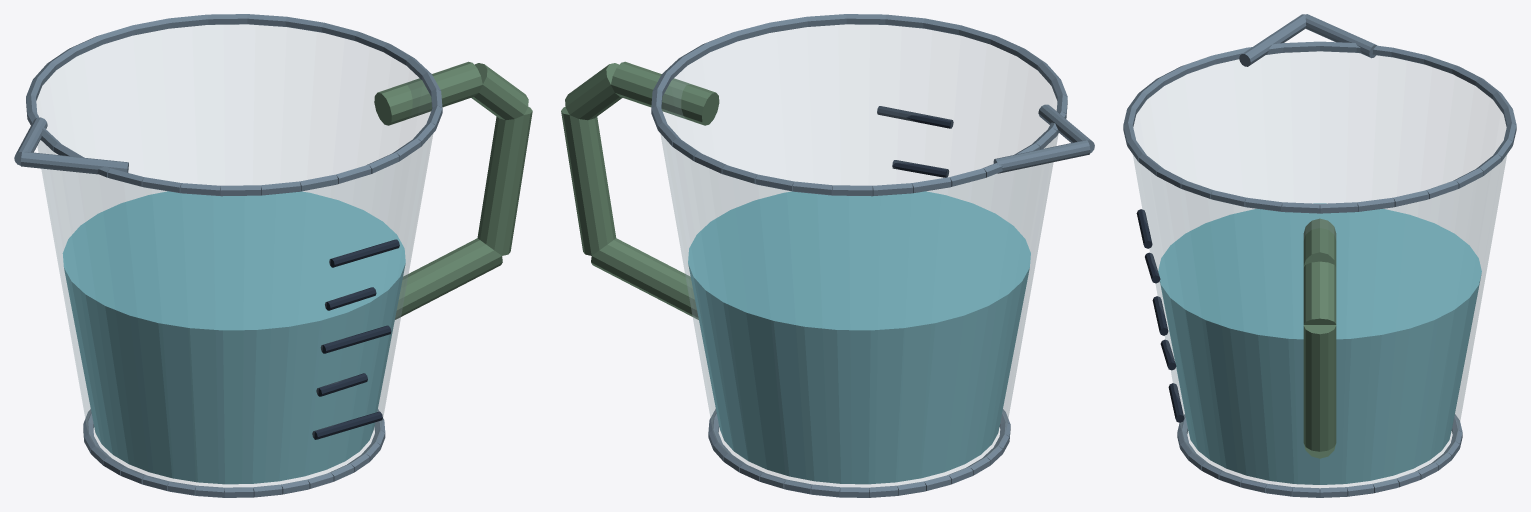
The model's file is jug.glb.
The picture shows the model from 3 angles, left to right: view 1: azimuth 30°, elevation 25°; view 2: azimuth 150°, elevation 25°; view 3: azimuth 270°, elevation 25°; orthographic projection. The views are drawn at different scales.
Parts seen in each view (by area): view 1: glass wall, liquid, handle2, handle3, handle0, handle1, pour lip0, tick 4, tick 2, tick 0, pour lip1; view 2: glass wall, liquid, handle2, handle3, handle0, handle1, pour lip1, pour lip0, tick 4; view 3: glass wall, liquid, handle2, handle1, handle0, pour lip0, pour lip1.
Part boxes in pixels (left/top/right/bottom): glass wall: left=37, top=25, right=432, bottom=487; liquid: left=62, top=191, right=405, bottom=484; handle2: left=477, top=107, right=532, bottom=255; handle3: left=395, top=238, right=502, bottom=319; handle0: left=374, top=61, right=482, bottom=125; handle1: left=471, top=63, right=528, bottom=120; pour lip0: left=20, top=151, right=128, bottom=174; tick 4: left=329, top=239, right=399, bottom=267; tick 2: left=320, top=325, right=391, bottom=353; tick 0: left=312, top=411, right=382, bottom=439; pour lip1: left=14, top=117, right=47, bottom=165; glass wall: left=660, top=25, right=1058, bottom=487; liquid: left=688, top=191, right=1030, bottom=484; handle2: left=561, top=106, right=616, bottom=255; handle3: left=591, top=238, right=698, bottom=319; handle0: left=611, top=61, right=719, bottom=125; handle1: left=565, top=63, right=622, bottom=120; pour lip1: left=993, top=140, right=1090, bottom=173; pour lip0: left=1038, top=104, right=1094, bottom=152; tick 4: left=877, top=106, right=953, bottom=128; glass wall: left=1133, top=52, right=1506, bottom=488; liquid: left=1158, top=203, right=1481, bottom=484; handle2: left=1303, top=325, right=1336, bottom=451; handle1: left=1303, top=261, right=1336, bottom=324; handle0: left=1303, top=218, right=1336, bottom=266; pour lip0: left=1239, top=14, right=1306, bottom=66; pour lip1: left=1305, top=14, right=1376, bottom=58.
Size of the model in its own units: 1.89 by 1.19 by 1.31.
